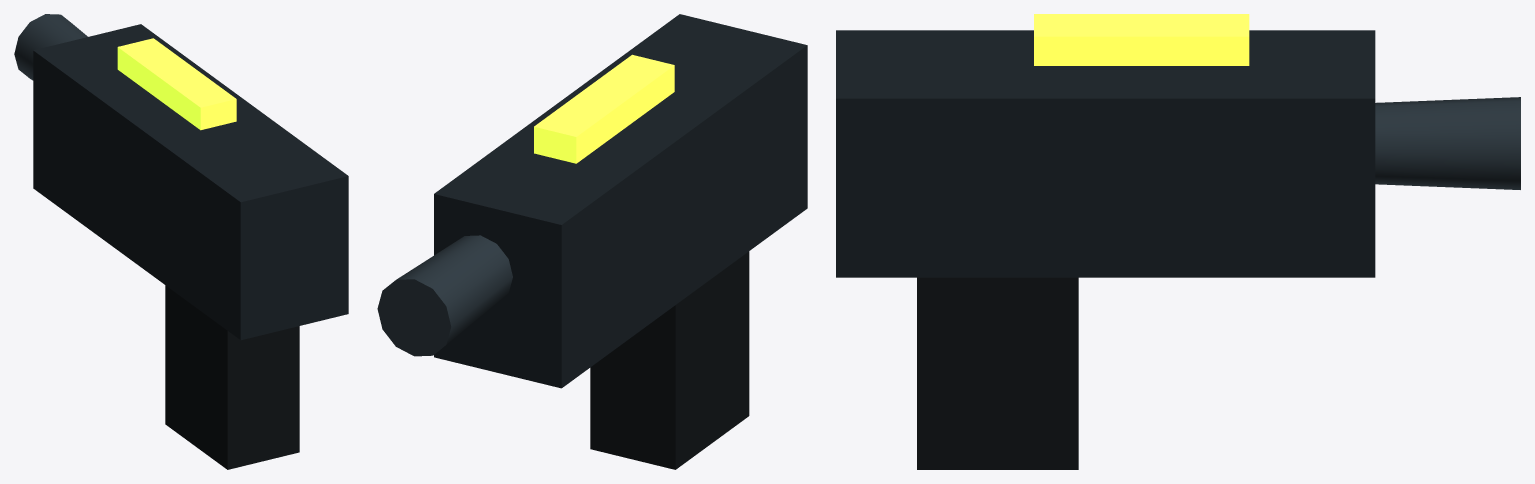
File: pistol.glb
The picture shows the model from 3 angles, left to right: view 1: azimuth 30°, elevation 25°; view 2: azimuth 150°, elevation 25°; view 3: azimuth 270°, elevation 25°; orthographic projection. The views are drawn at different scales.
Bounding box in the file's own units: 0.09 × 0.259 × 0.381.
